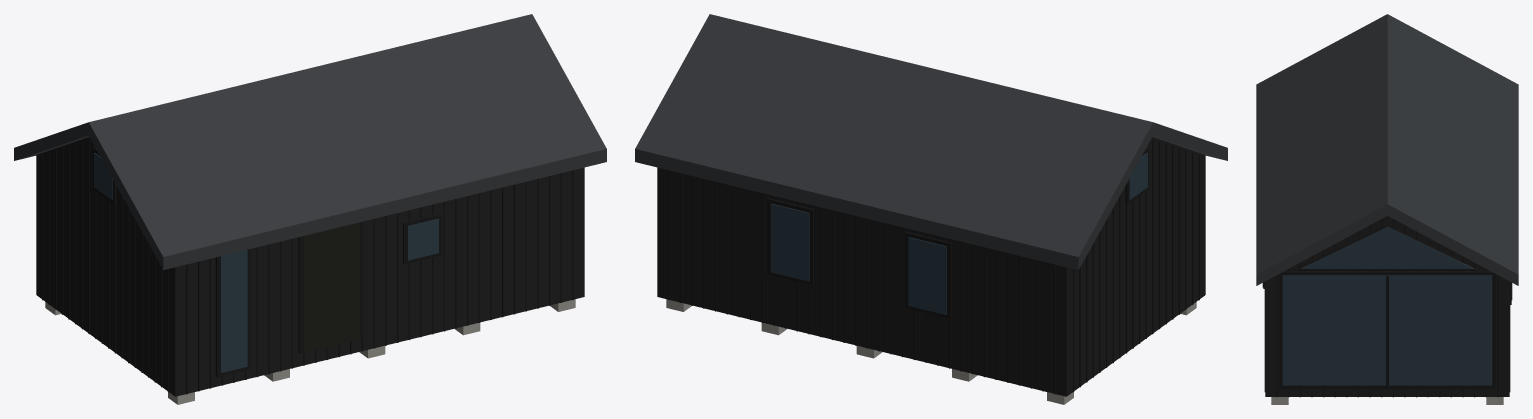
Rendered from hus-r1.glb.
The picture shows the model from 3 angles, left to right: view 1: azimuth 30°, elevation 25°; view 2: azimuth 150°, elevation 25°; view 3: azimuth 270°, elevation 25°; orthographic projection. The views are drawn at different scales.
Parts seen in each view (by area): view 1: del11, del10, del123, del121, del120, del125, del122, del124, del136; view 2: del11, del10, del134, del132, del131, del133, del136; view 3: del11, del127, del10, del130, del126, del129, del128, del81, del119.
Part boxes in pixels (x1,y1,x2,y2): del11: (14, 14, 606, 270); del10: (36, 137, 584, 396); del123: (303, 222, 359, 352); del121: (220, 250, 247, 372); del120: (215, 249, 250, 377); del125: (407, 218, 438, 260); del122: (298, 221, 362, 353); del124: (403, 213, 441, 264); del136: (94, 153, 112, 199); del11: (635, 14, 1227, 270); del10: (657, 137, 1205, 396); del134: (770, 203, 809, 281); del132: (908, 237, 946, 314); del131: (905, 232, 951, 318); del133: (767, 198, 813, 285); del136: (1129, 153, 1147, 199); del11: (1256, 14, 1518, 285); del127: (1282, 275, 1492, 385); del10: (1265, 216, 1509, 396); del130: (1301, 227, 1473, 268); del126: (1279, 271, 1495, 388); del129: (1297, 225, 1477, 270); del128: (1386, 275, 1388, 386); del81: (1497, 275, 1498, 397); del119: (1276, 275, 1277, 397).
Size of the model in its own units: 7.74 by 4 by 4.51.
